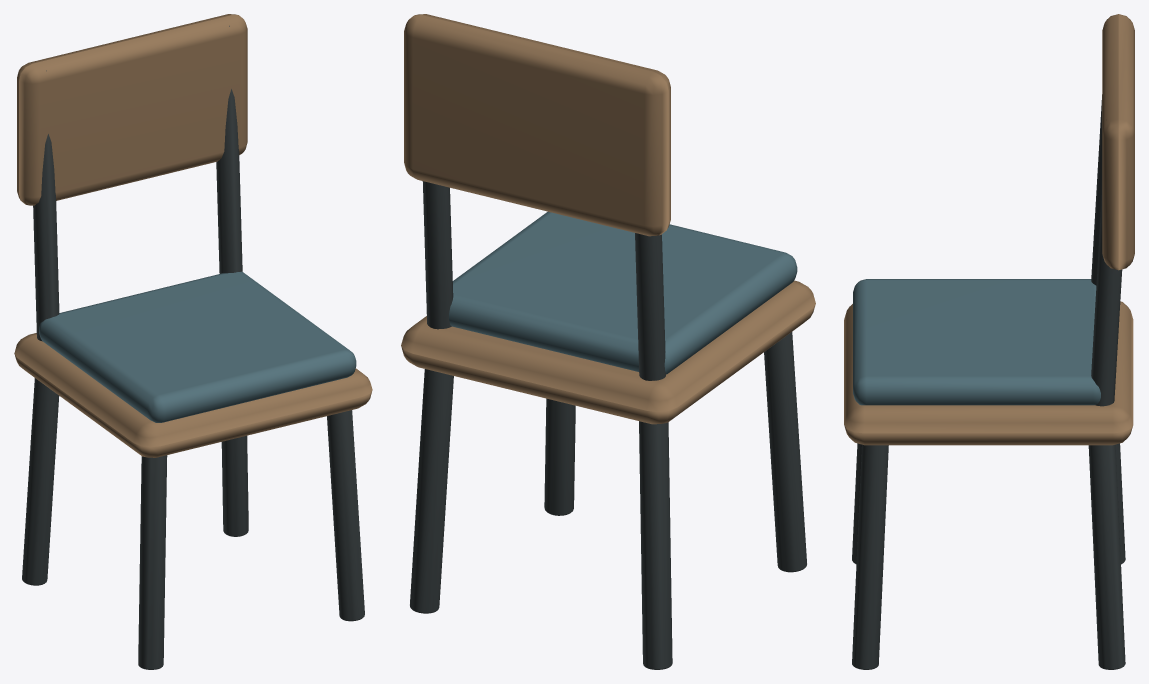
The model's file is P_DiningChair.fbx.
The picture shows the model from 3 angles, left to right: view 1: azimuth 30°, elevation 25°; view 2: azimuth 150°, elevation 25°; view 3: azimuth 270°, elevation 25°; orthographic projection. The views are drawn at different scales.
Visible parts, largest first — view 1: P_DiningChair; view 2: P_DiningChair; view 3: P_DiningChair.
Part boxes in pixels (left/top/right/bottom): P_DiningChair: left=14, top=14, right=372, bottom=669; P_DiningChair: left=401, top=14, right=815, bottom=669; P_DiningChair: left=844, top=14, right=1134, bottom=669.
Bounding box in the file's own units: 0.49 × 1.02 × 0.4925.
